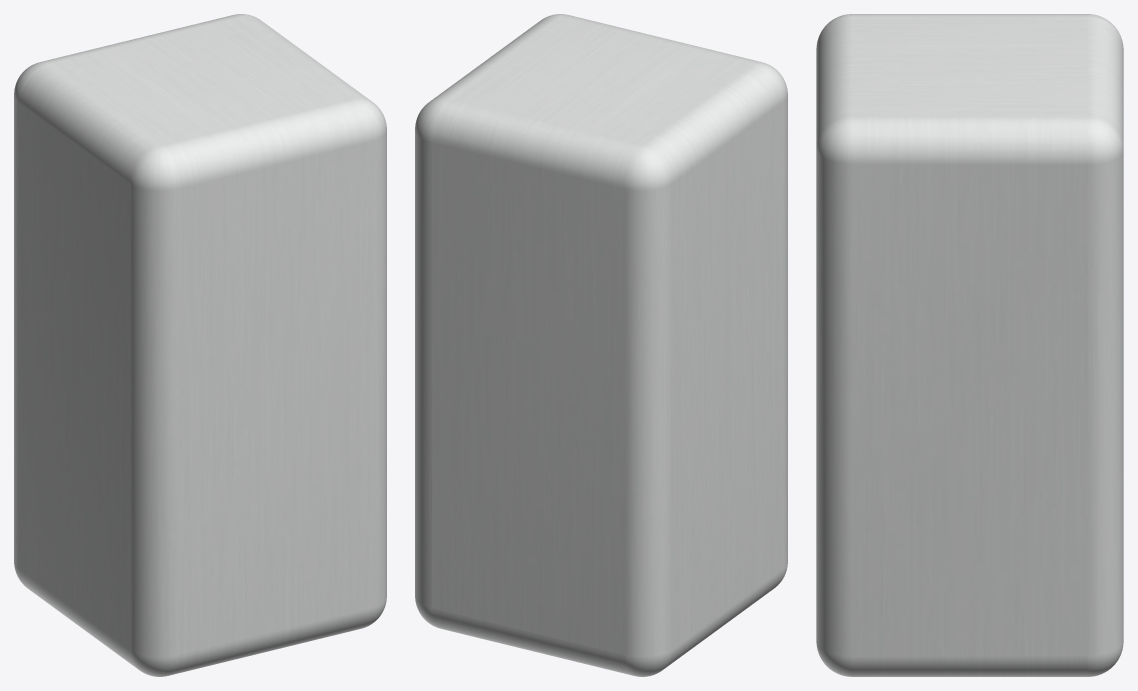
Rendered from chrome-cube.glb.
The picture shows the model from 3 angles, left to right: view 1: azimuth 30°, elevation 25°; view 2: azimuth 150°, elevation 25°; view 3: azimuth 270°, elevation 25°; orthographic projection. The views are drawn at different scales.
Parts seen in each view (by area): view 1: Cube; view 2: Cube; view 3: Cube.
Boxes of the visible parts, x1,y1,x2,y2 form: Cube: (14,14,386,676); Cube: (415,14,787,676); Cube: (816,14,1123,676).
Bounding box in the file's own units: 0.6 × 1.2 × 0.6.
Materials: 1 (1 with a texture image).
